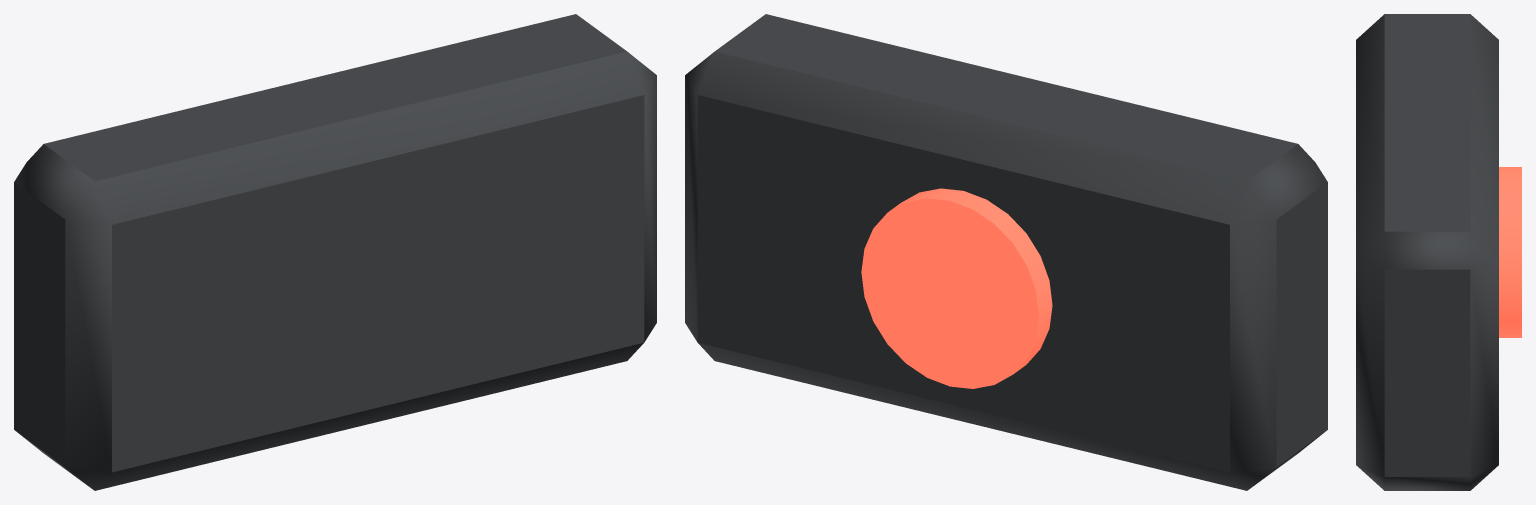
File: sentry_eye.glb
3 views of the same model, side by side, from view 1: azimuth 30°, elevation 25°; view 2: azimuth 150°, elevation 25°; view 3: azimuth 270°, elevation 25° (orthographic). The views are drawn at different scales.
Visible parts, largest first — view 1: sentry_eye; view 2: sentry_eye; view 3: sentry_eye.
Boxes of the visible parts, <box> form: sentry_eye: <box>14,14,656,490</box>; sentry_eye: <box>685,14,1327,490</box>; sentry_eye: <box>1356,14,1521,490</box>.
Size of the model in its own units: 0.3 by 0.15 by 0.087.
